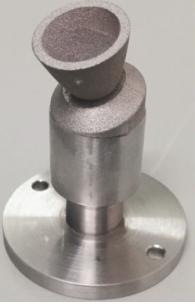thruster: (33, 0, 132, 98)
